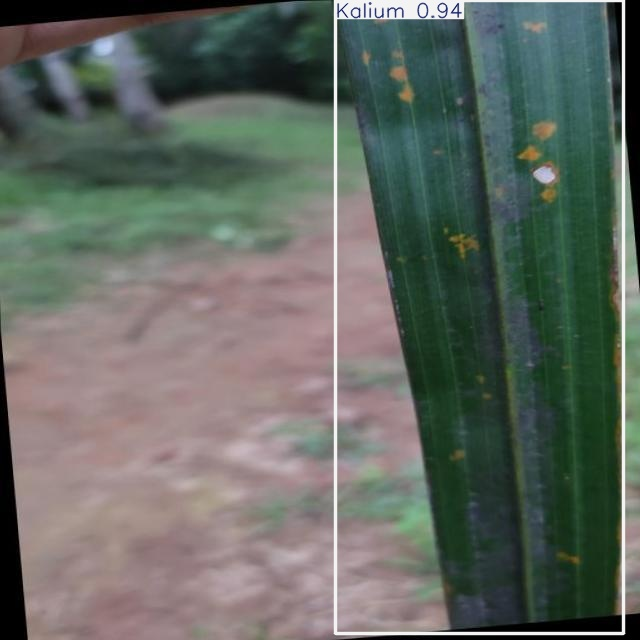Kalium: (336, 0, 623, 634)
